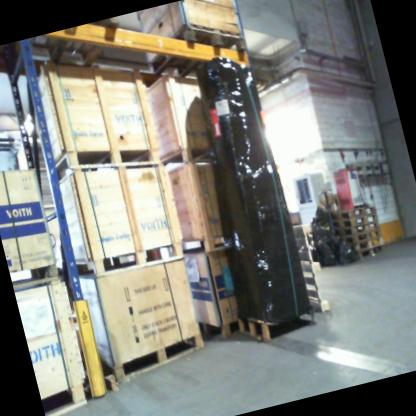pallet: (142, 11, 251, 86), (51, 129, 164, 190), (98, 328, 209, 388), (75, 235, 187, 284), (292, 220, 333, 316), (247, 302, 319, 348), (157, 141, 214, 178), (10, 258, 62, 297), (39, 379, 91, 416), (197, 310, 248, 345), (178, 229, 230, 259), (334, 201, 377, 223), (339, 211, 379, 232), (343, 219, 381, 238), (346, 227, 382, 245), (350, 236, 385, 253), (354, 244, 387, 261)
pallet_truck: (316, 188, 342, 233)
